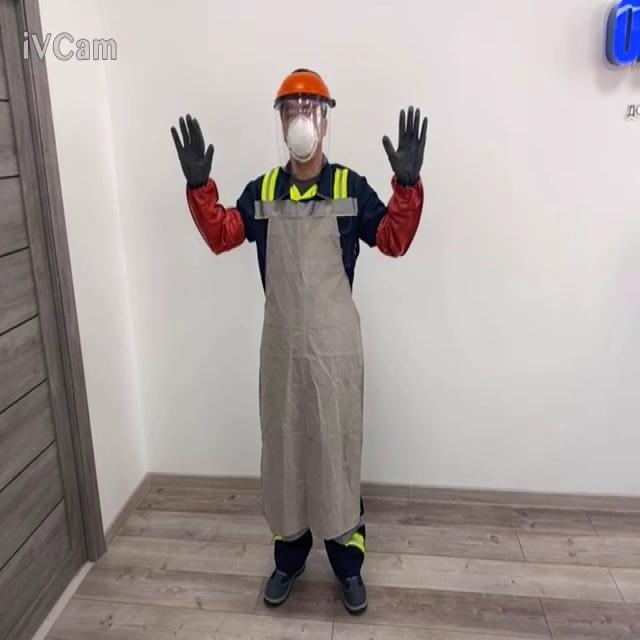Gloves: (382, 104, 428, 185), (170, 112, 214, 189)
Mask: (284, 109, 320, 164)
Protective apron: (253, 168, 365, 544)
Safety Shoes: (262, 562, 305, 606), (338, 572, 367, 612)
Sleeve: (185, 176, 246, 255), (374, 172, 423, 257)
